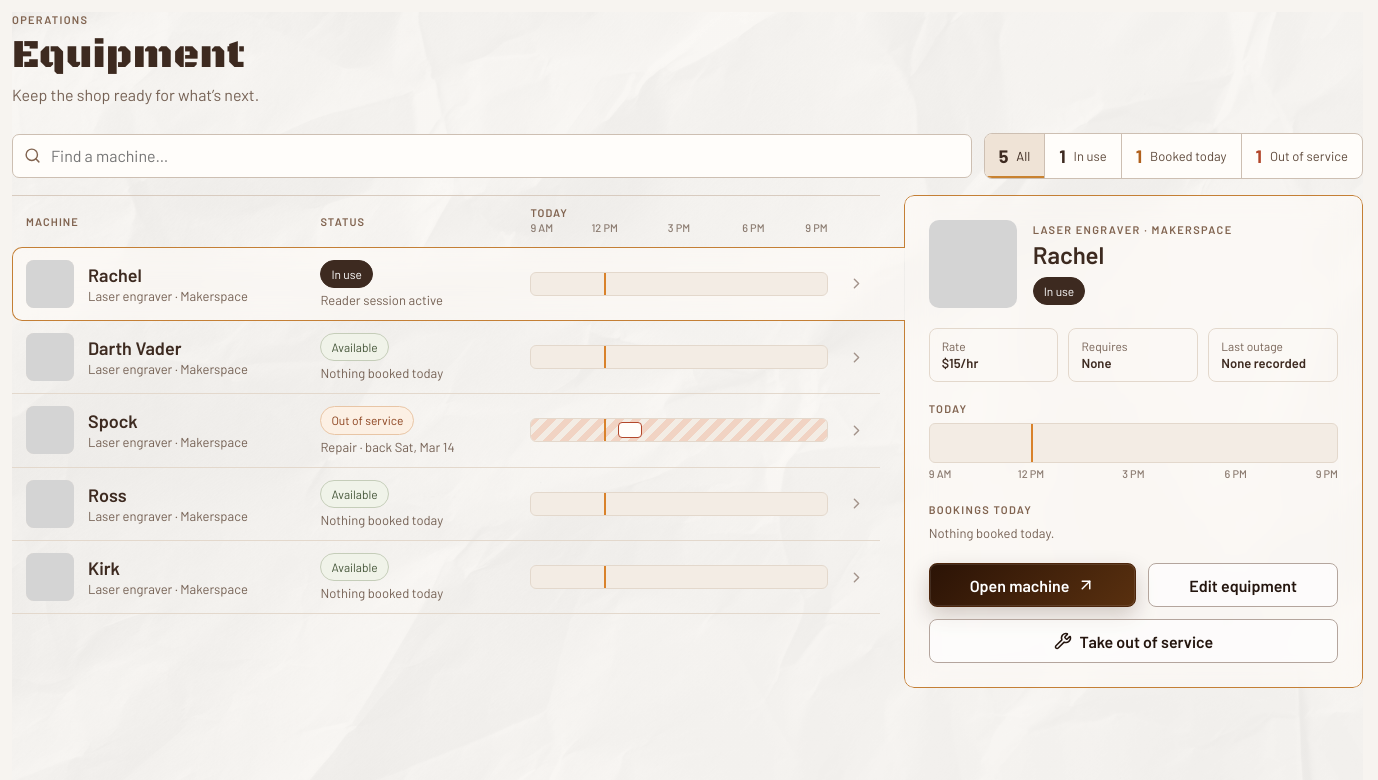
Test: a booking on a machine out of service reads as affected, not upcoming
Check: the element named "Rachel details" is shown, box [904,194,1363,688]
Click the link "Spock": (50, 430) [12,394,880,468]
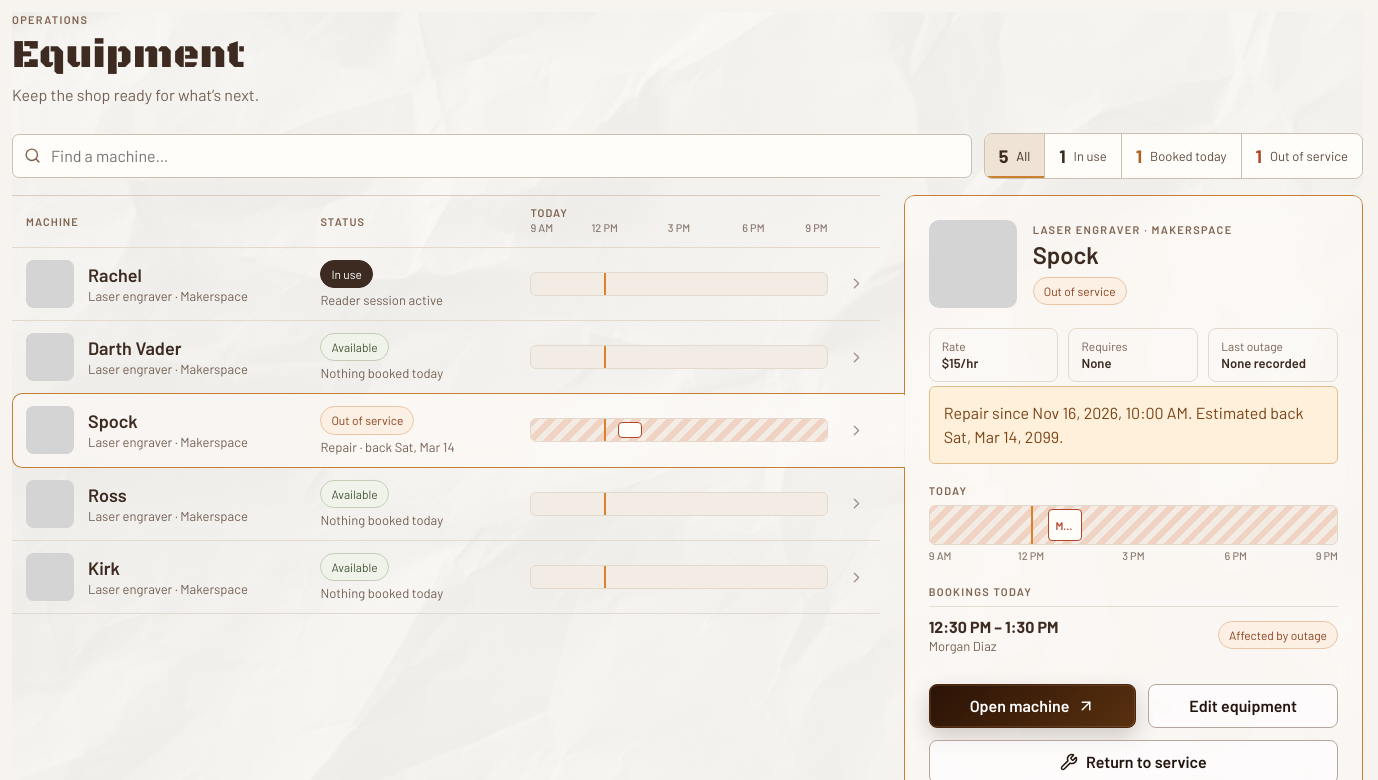
Check: the text "Affected by outage" is shown, box [1218,621,1338,649]
